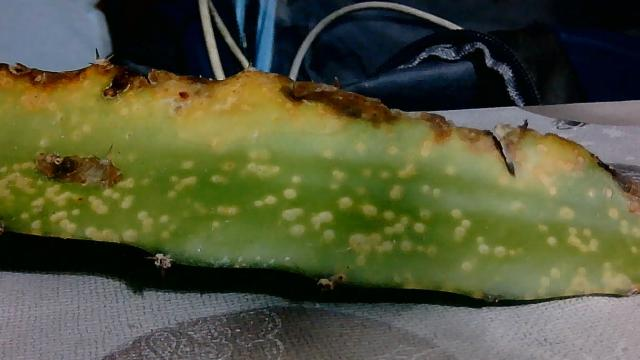stemcanker: (1, 148, 640, 305)
